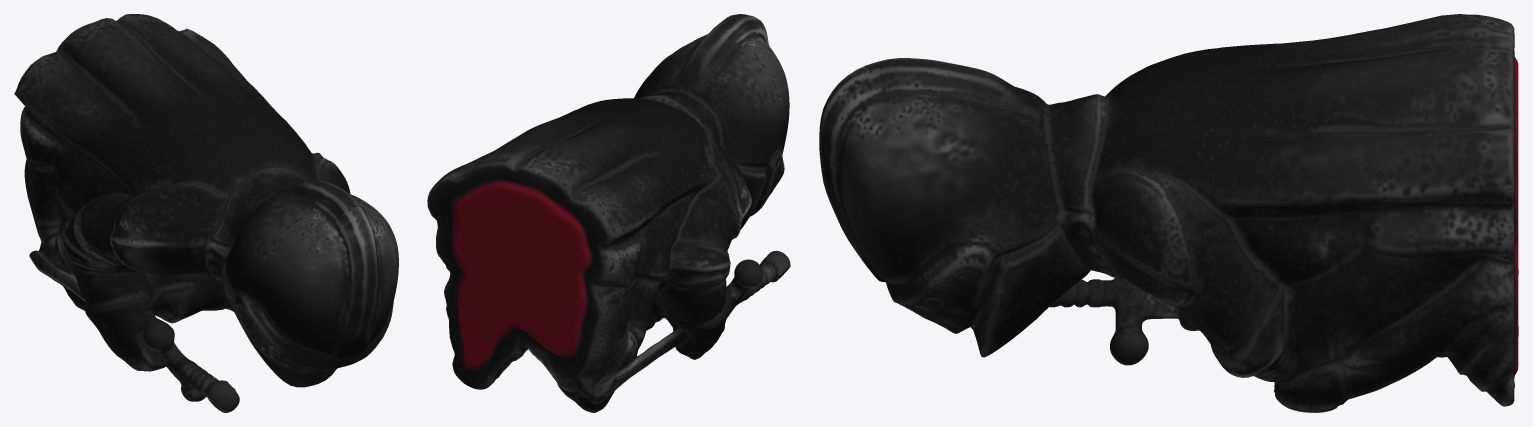
The model's file is PeonN.glb.
3 renders of one model, left to right at view 1: azimuth 30°, elevation 25°; view 2: azimuth 150°, elevation 25°; view 3: azimuth 270°, elevation 25°, orthographic. The views are drawn at different scales.
Parts seen in each view (by area): view 1: Node1; view 2: Node1; view 3: Node1.
Part boxes in pixels (x1,y1,x2,y2): Node1: (14,14,398,412); Node1: (427,14,790,412); Node1: (819,14,1518,412).
Size of the model in its own units: 0.7023 by 0.7689 by 1.33.
1 material, 1 textured.
